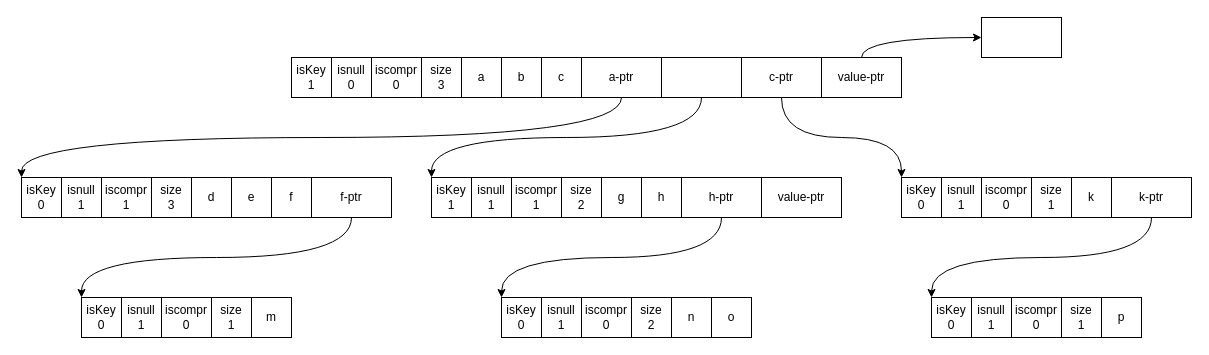
Some shapes in this 1209 by 355 pixel diagram are drawn without their labels. Here are the shapes that lost their labels. From the top down, the centre of each, then its label:
At point (1021, 37): "mem-block".
At point (701, 77): "b-ptr".
